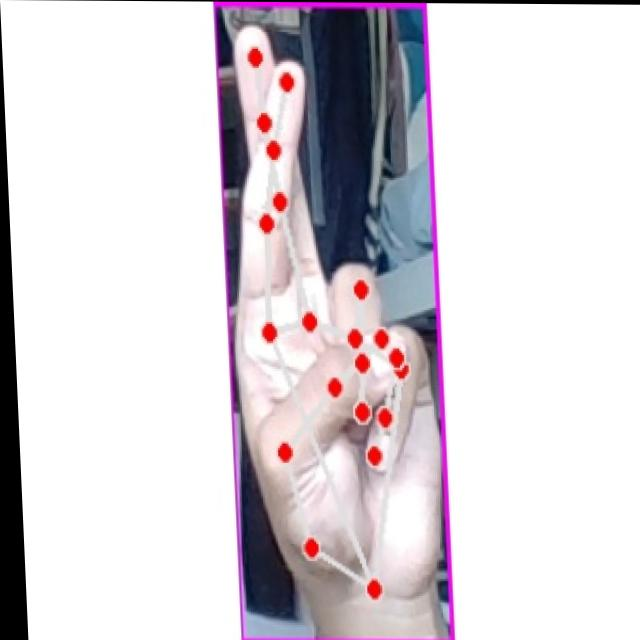R: (224, 19, 439, 610)
